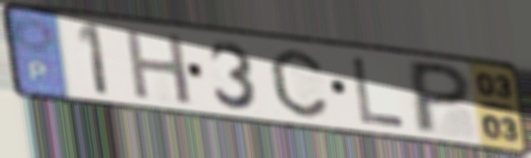1: (75, 20, 112, 99)
3: (206, 39, 259, 112)
C: (266, 46, 331, 120)
H: (122, 26, 196, 107)
L: (349, 54, 410, 130)
P: (410, 57, 475, 136)
